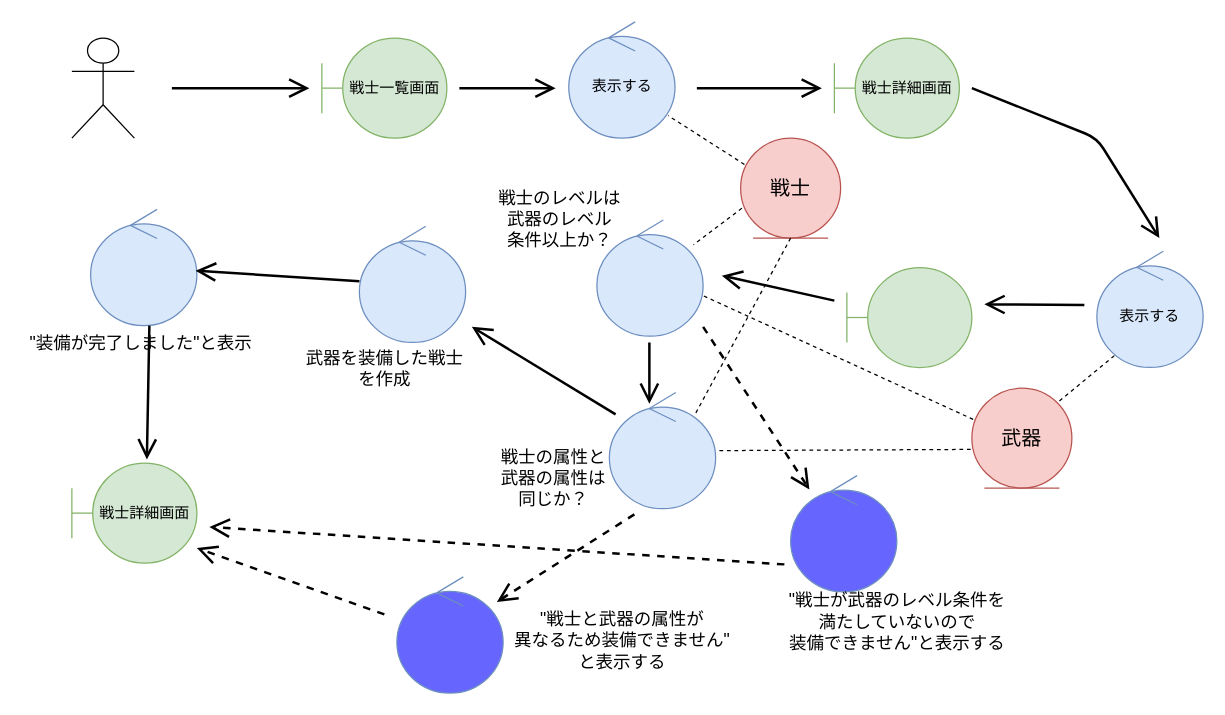
This 1225x715 diagram has some shape labels left out. The shapes that lost their labels are listed below. From the top down, each one's box as (x1, y1, x2, y2) in pixels, then its label:
(71, 37, 134, 138): ユーザー(Actor)
(846, 266, 972, 368): 武器一覧画面
